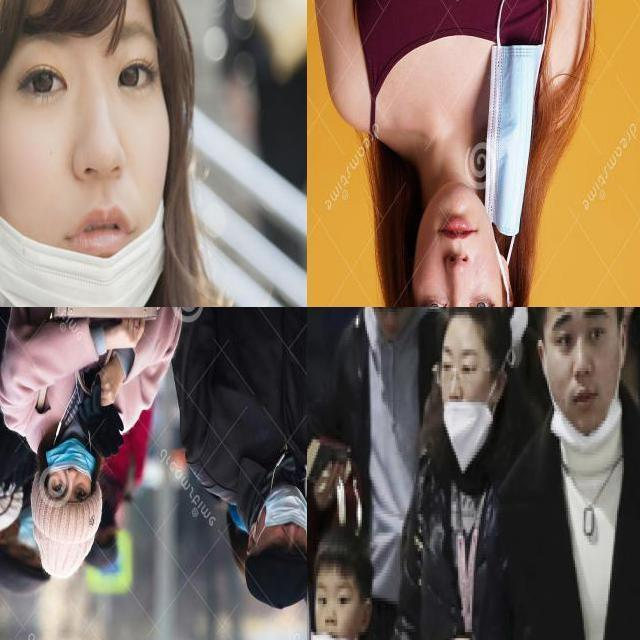hairnet: (10, 13, 169, 306), (550, 304, 617, 447), (441, 343, 483, 443), (268, 493, 306, 564), (51, 441, 92, 505)
